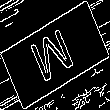M_SE: (29, 22, 81, 88)
